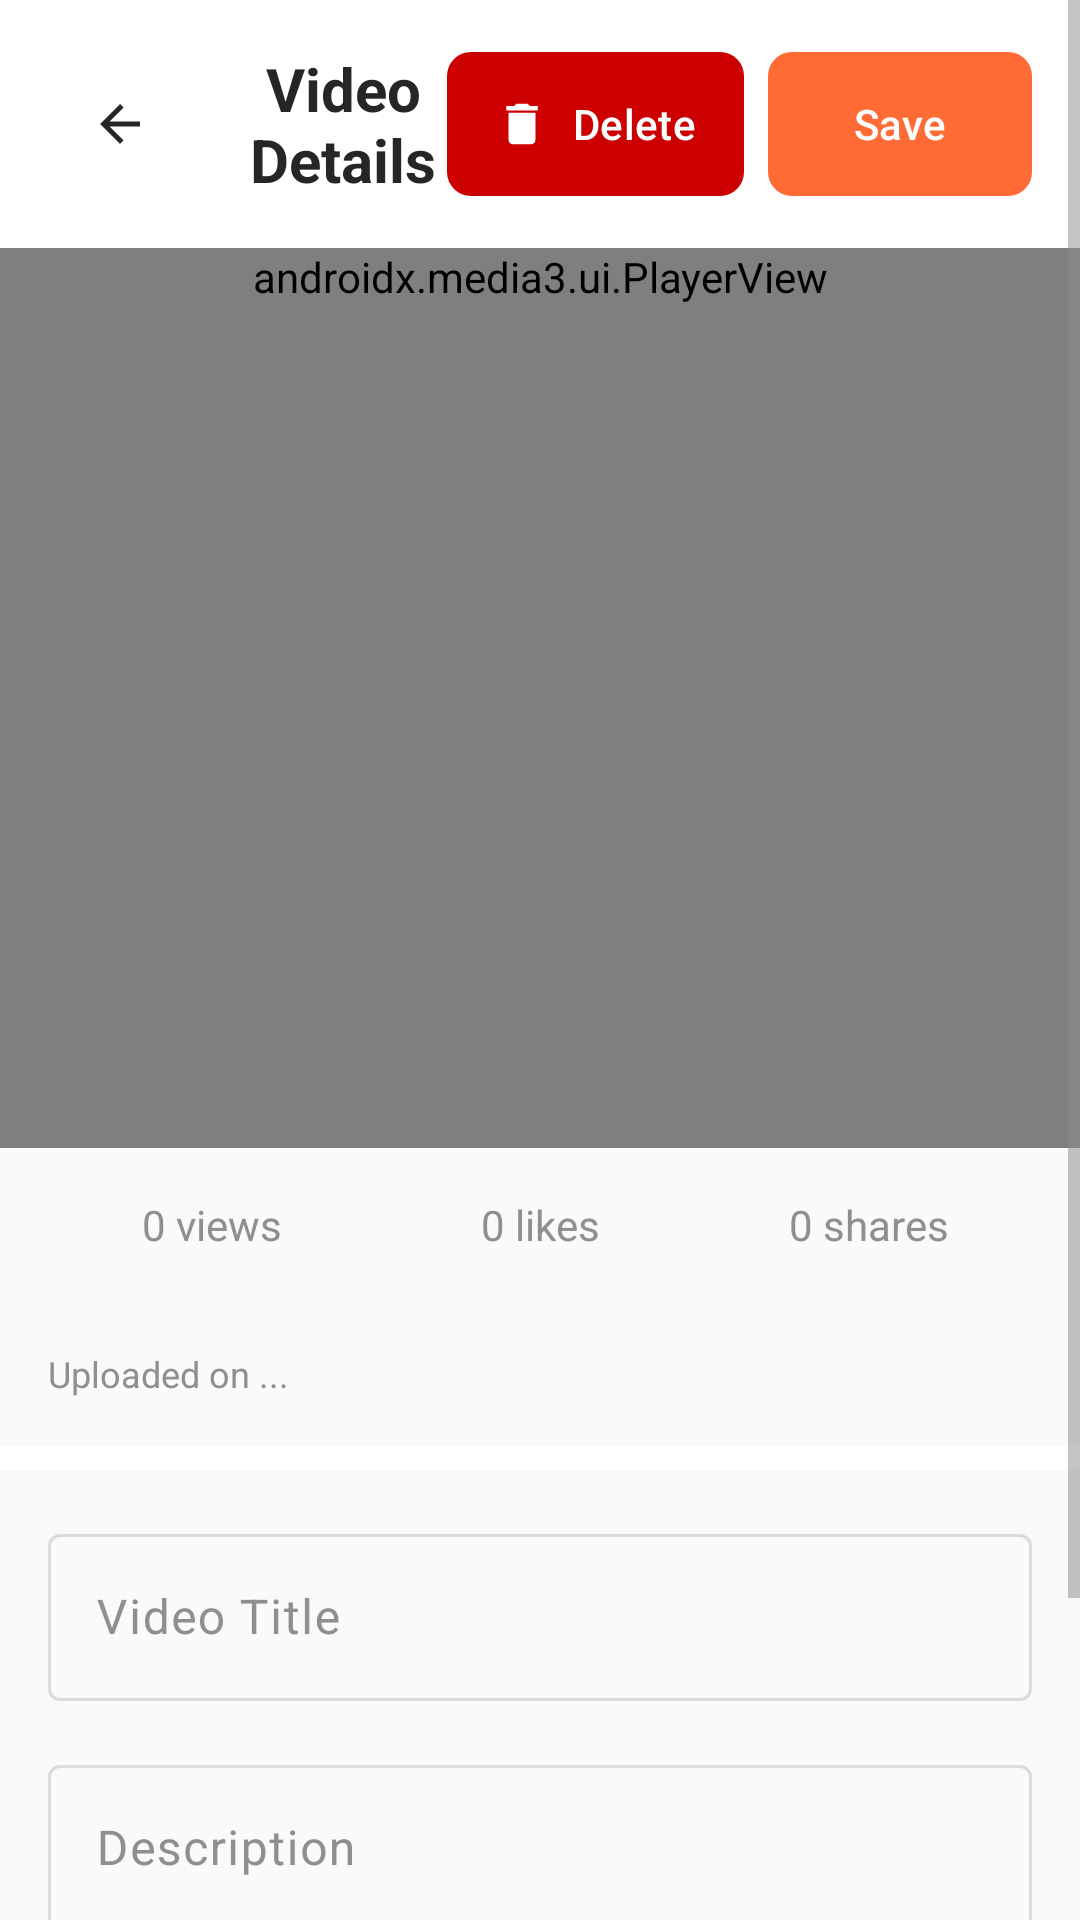

Named icons in this screenshot (1080w x 1920h) and their centers, (x=x, y=y):
arrow back: (x=120, y=124)
